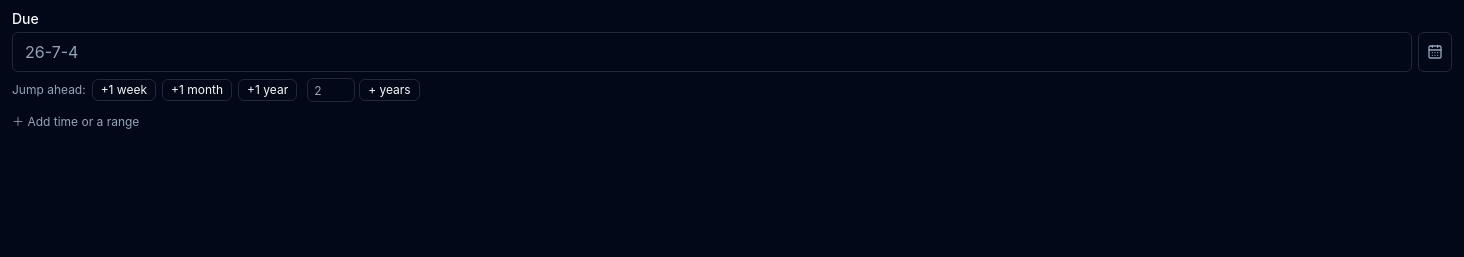
Test: DueFieldset › keeps the extras collapsed until asked, open when the value carries them (#559)
The width and height of the screenshot is (1464, 257).
Click the button "＋ Add time or a range".
click(76, 122)  # box [12,114,139,130]
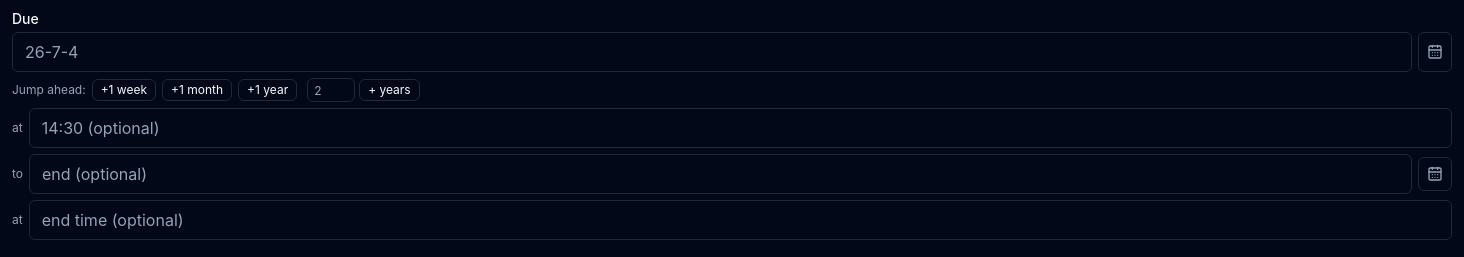
Expected: the field named "Due end (optional)" is shown, [29,154,1412,194]
